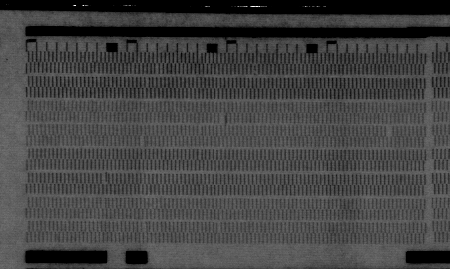Broken hole: (383, 125, 396, 138), (217, 111, 229, 124)
Oblique printing: (99, 171, 111, 186), (249, 63, 261, 77), (138, 135, 149, 147)
